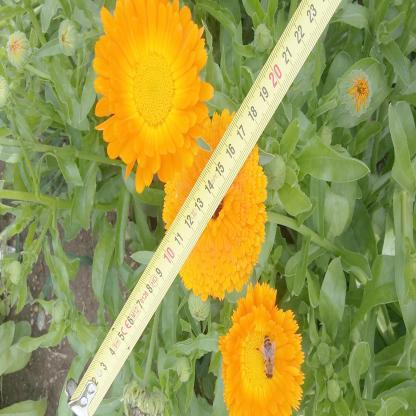marigold: (95, 1, 203, 185), (164, 114, 266, 297), (227, 292, 297, 416)
